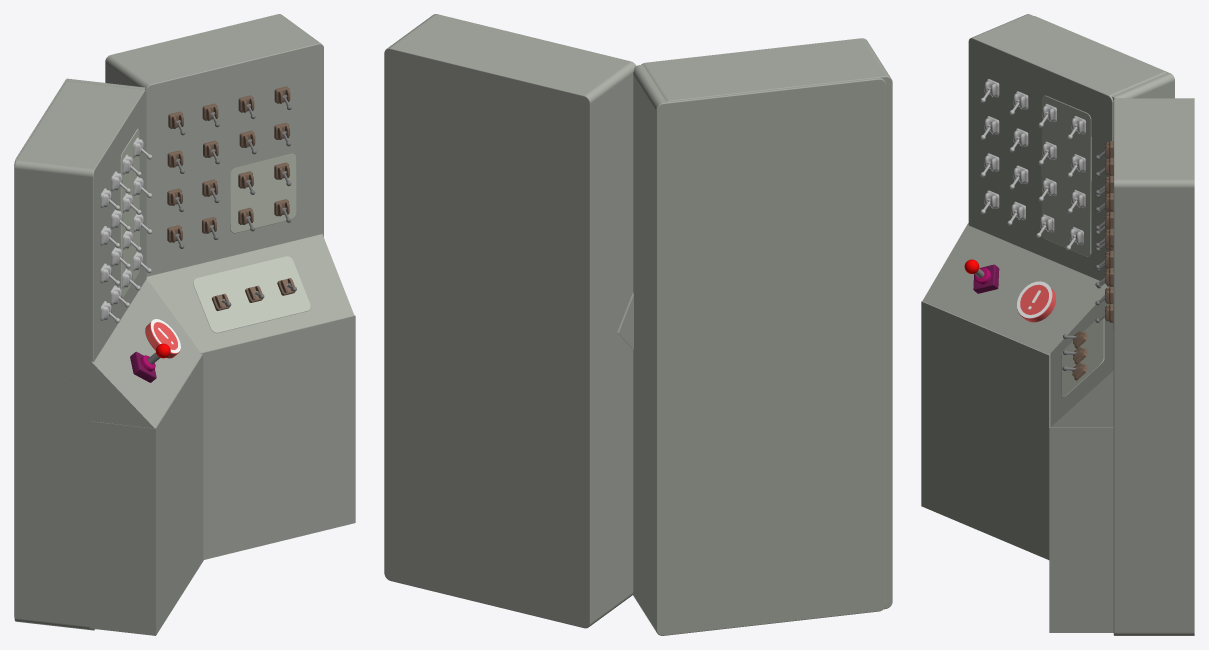
Rendered from dry_star_2025-01-26_14.11.40 1.gltf.
3 views of the same model, side by side, from view 1: azimuth 30°, elevation 25°; view 2: azimuth 150°, elevation 25°; view 3: azimuth 270°, elevation 25° (orthographic). The views are drawn at different scales.
Parts seen in each view (by area): view 1: Backplate (×7), Cube (×4); view 2: Backplate (×3); view 3: Backplate (×6), Cube (×4), Warning Circle, Box002_Base_0.
Part boxes in pixels (x1,y1,x2,y2): Backplate (×7): (14,14,323,630); Cube (×4): (59,234,355,635); Backplate (×3): (384,14,892,635); Backplate (×6): (968,14,1194,635); Cube (×4): (921,223,1113,632); Warning Circle: (1017,281,1052,318); Box002_Base_0: (973,264,999,293).
Bounding box in the file's own units: 0.987 × 1.23 × 0.6672.
